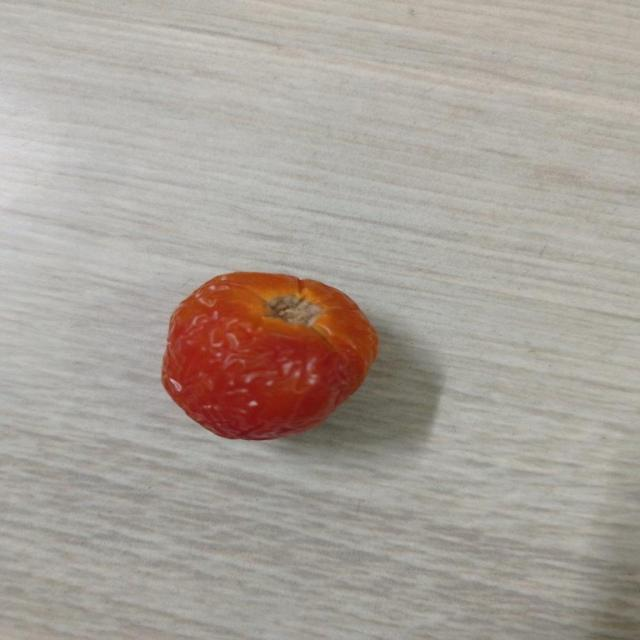overripe: (158, 269, 384, 446)
